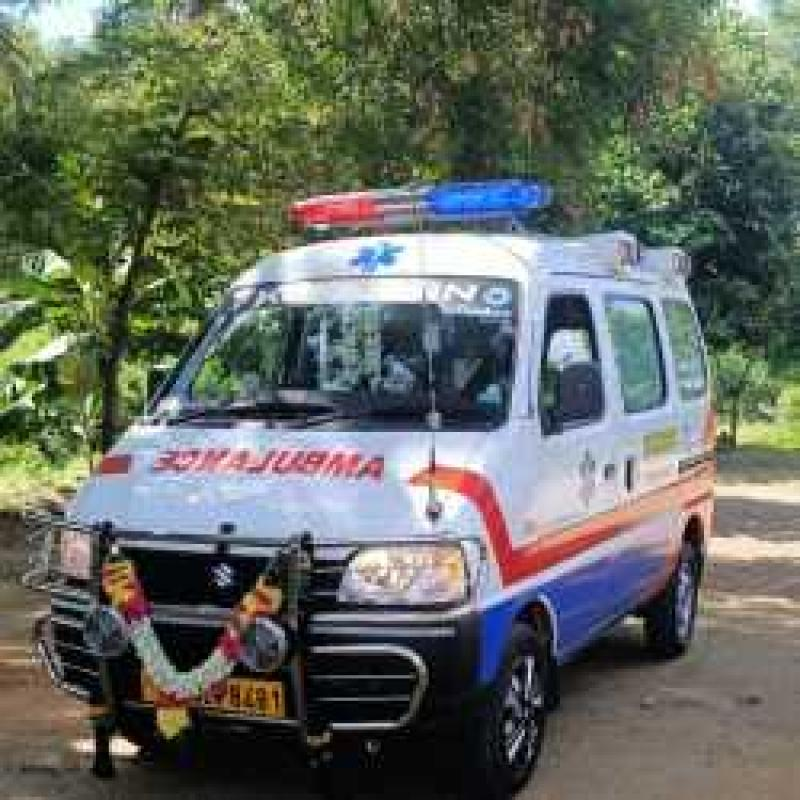ambulance: (68, 160, 743, 776)
